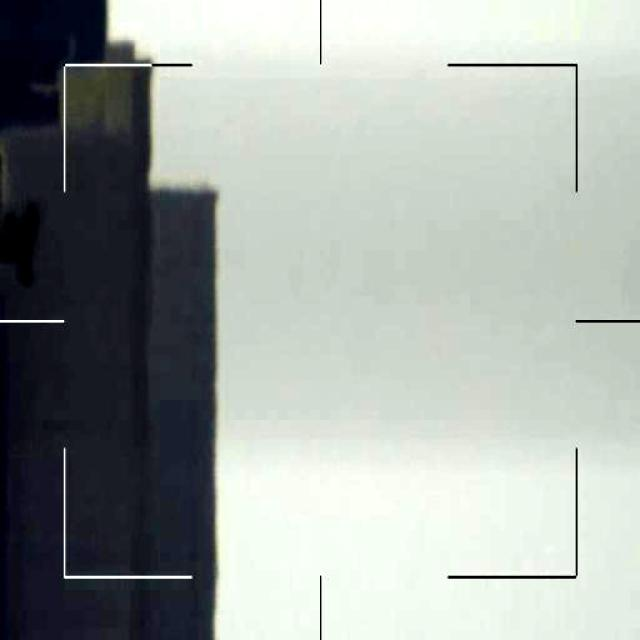bird: (0, 194, 49, 279)
